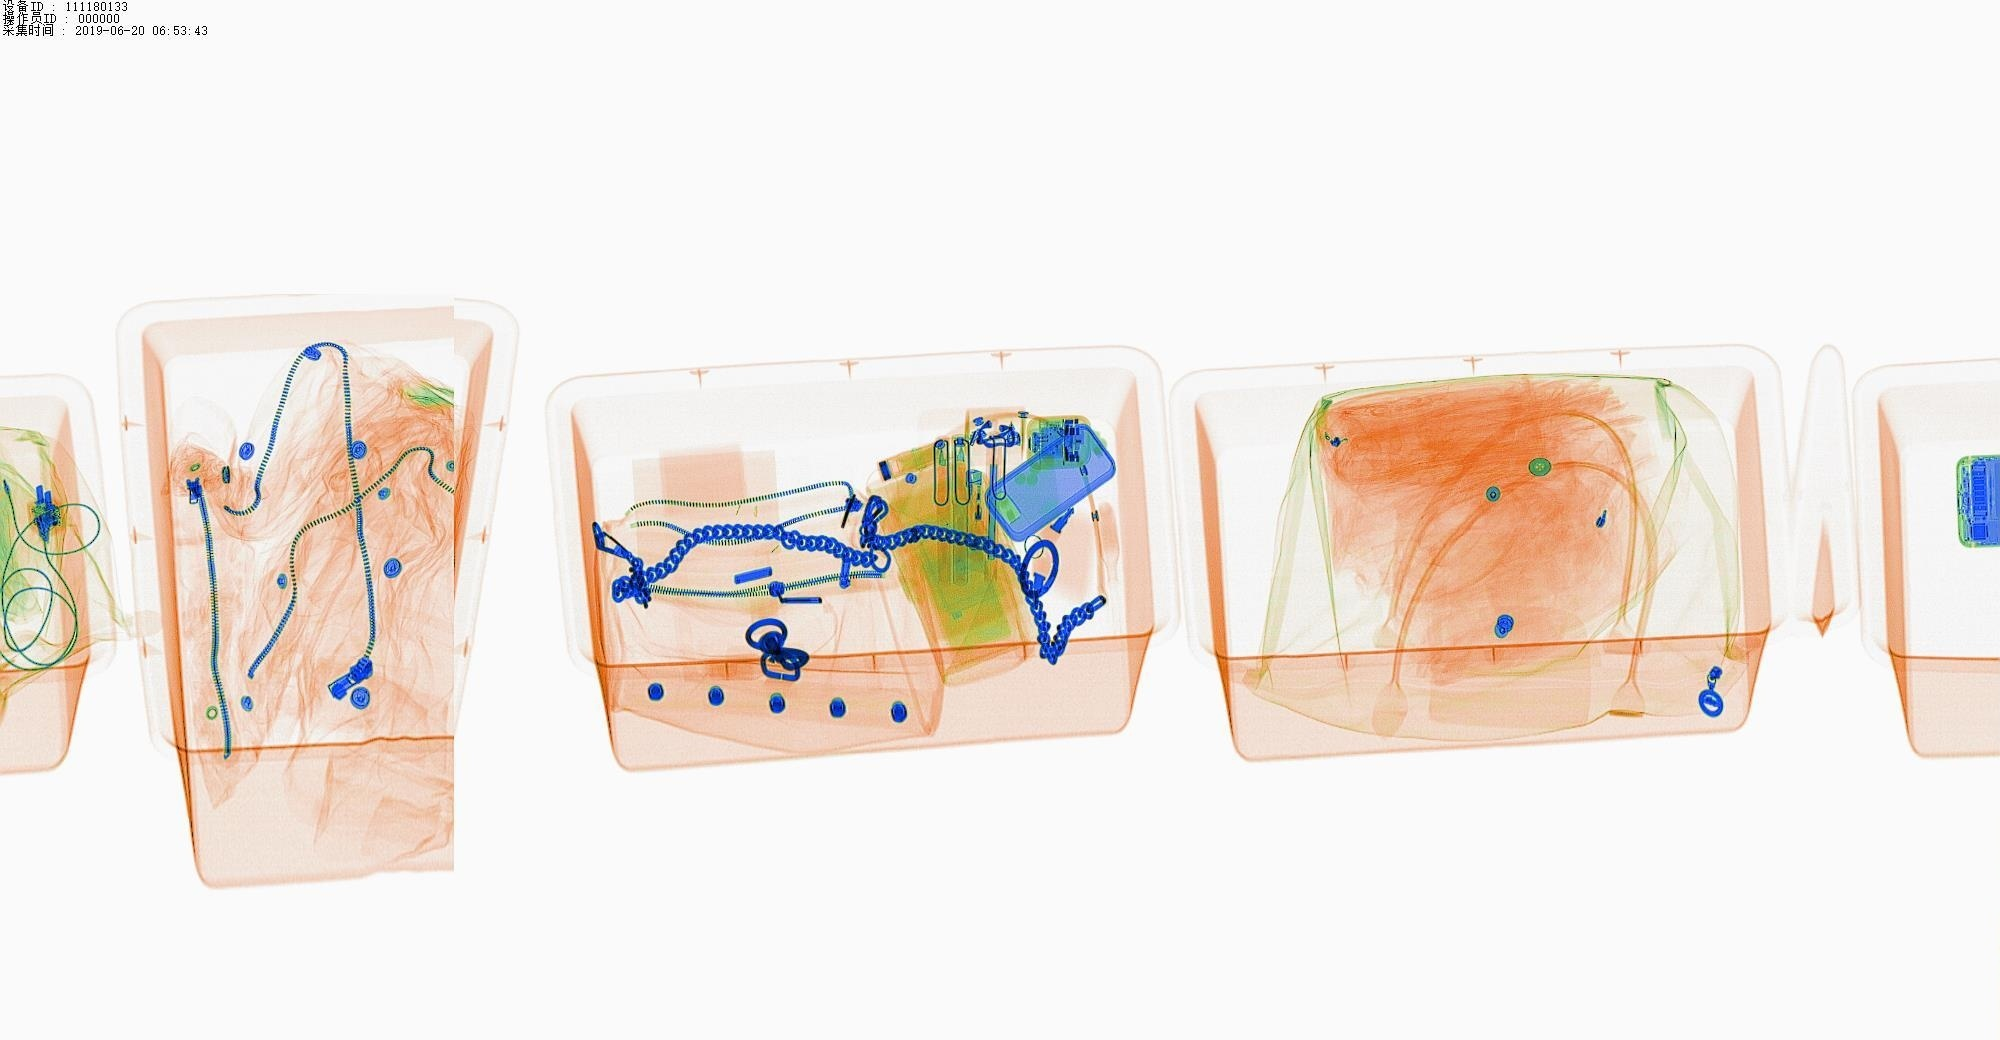NonmetallicFire: (952, 460, 991, 545)
